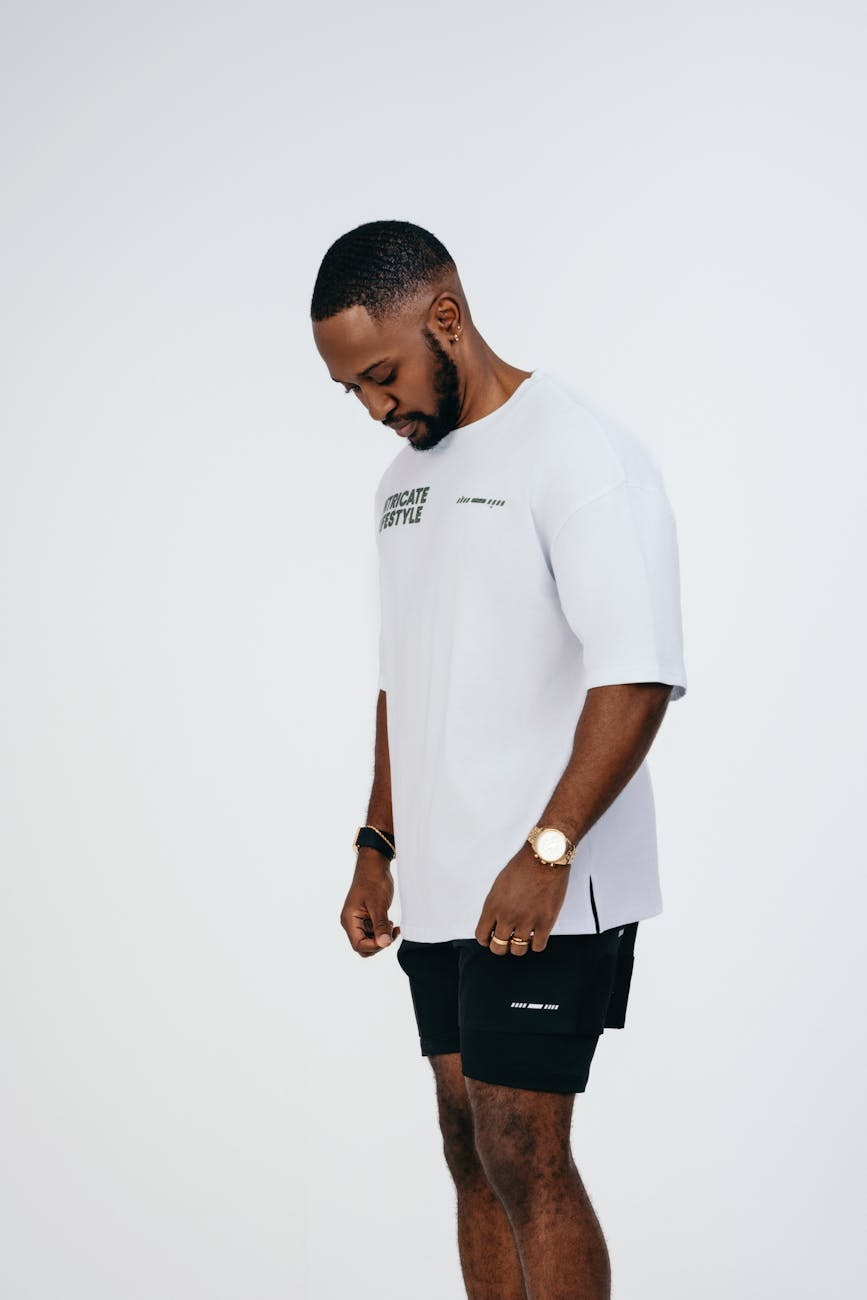shorts: (388, 925, 653, 1095)
